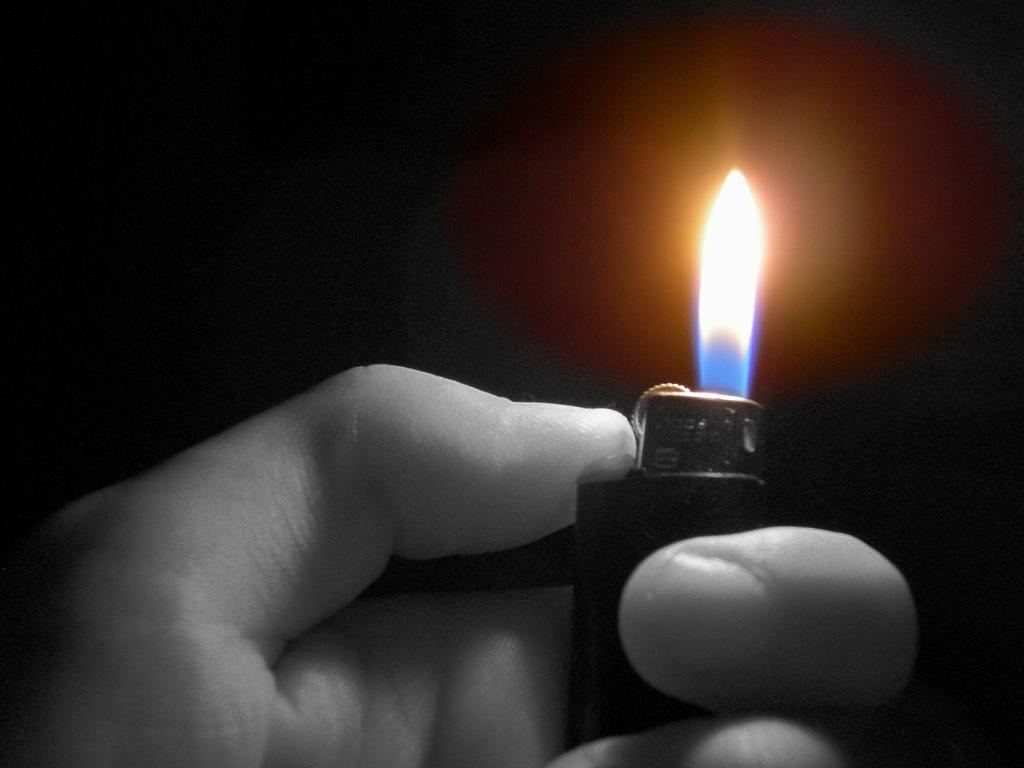fire: (700, 194, 760, 384)
